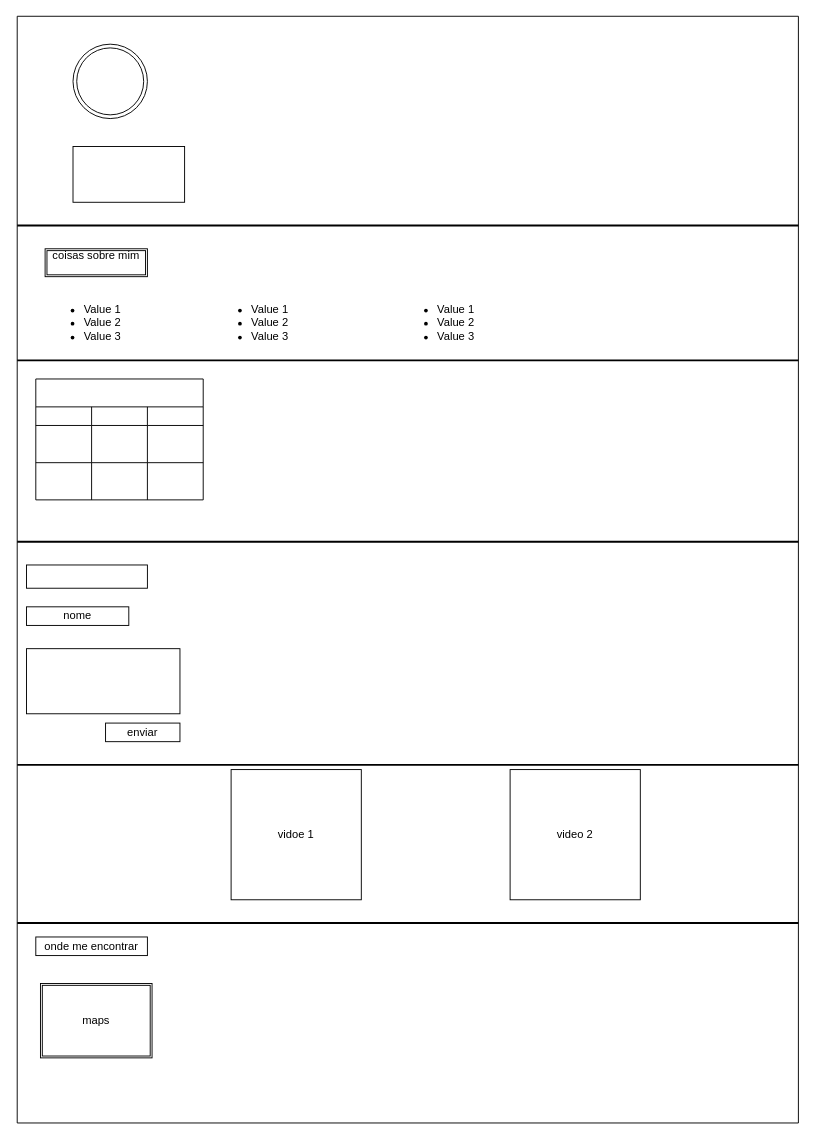
Image size: 815x1139. Some labels were removed from this diagram. The shapes that lost their labels are listed below. From the top down, each one's centre as x and y in pixels, then its label:
At (128,174): "eu".
At (119,439): "Table".
At (86,576): "formulario".
